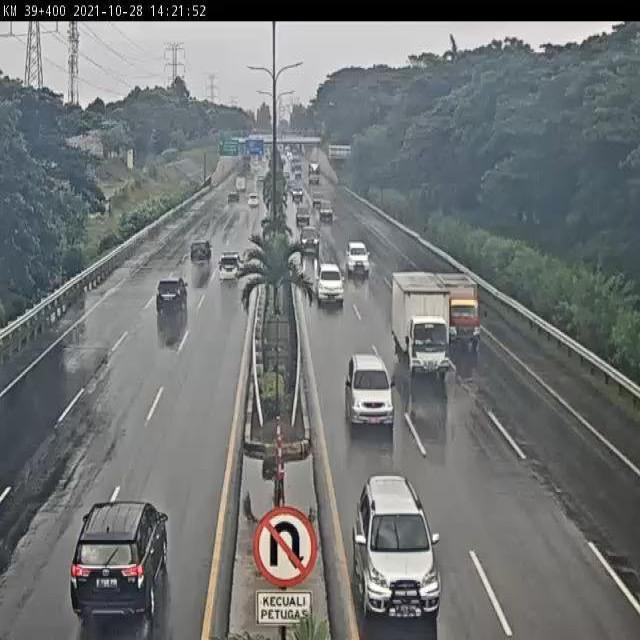car: (350, 474, 445, 622), (71, 501, 170, 619), (346, 355, 395, 425), (155, 276, 188, 316), (345, 240, 371, 275), (217, 252, 243, 280), (188, 236, 212, 264), (300, 225, 320, 252)
truck-m-: (392, 273, 452, 380)
truck-s-: (444, 274, 482, 346)
